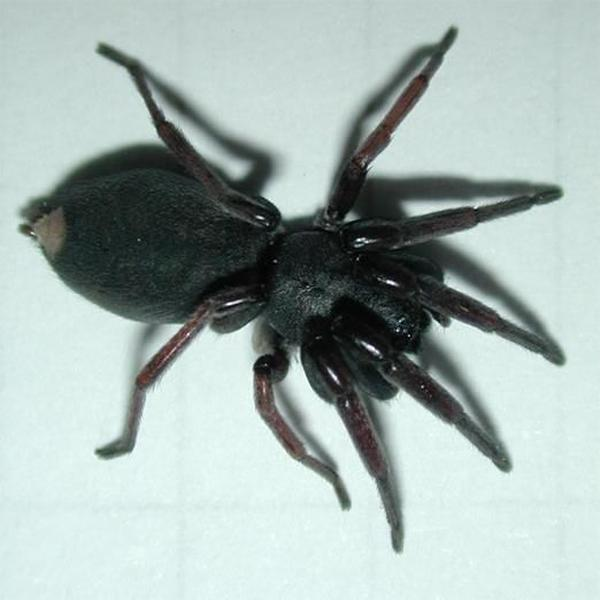White-Tailed Spider: (28, 45, 553, 543)
